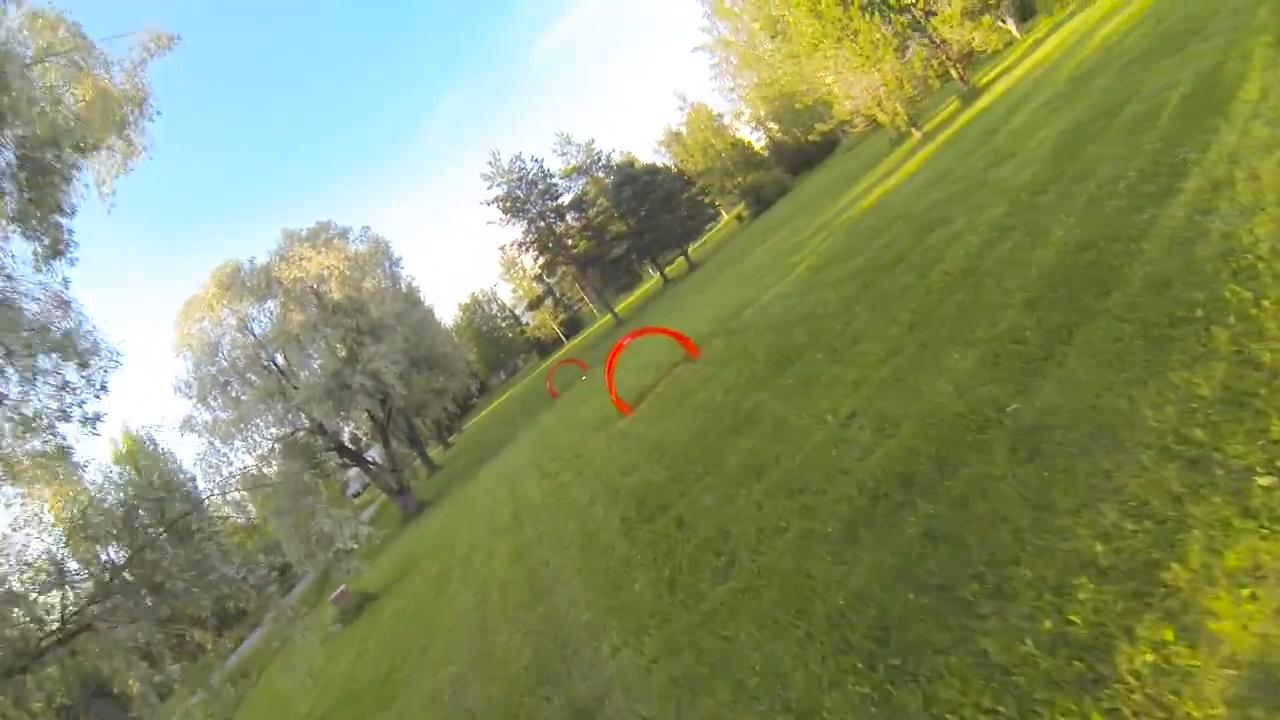gate: (602, 323, 703, 419)
